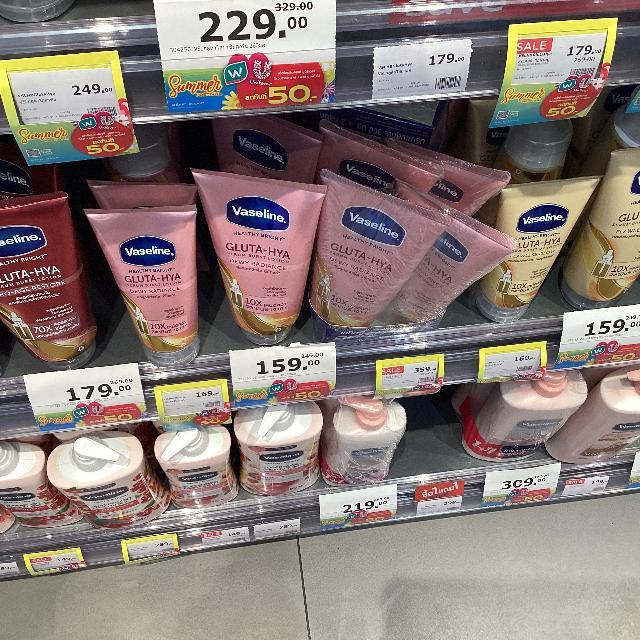Squeeze Tube: (5, 143, 566, 336)
